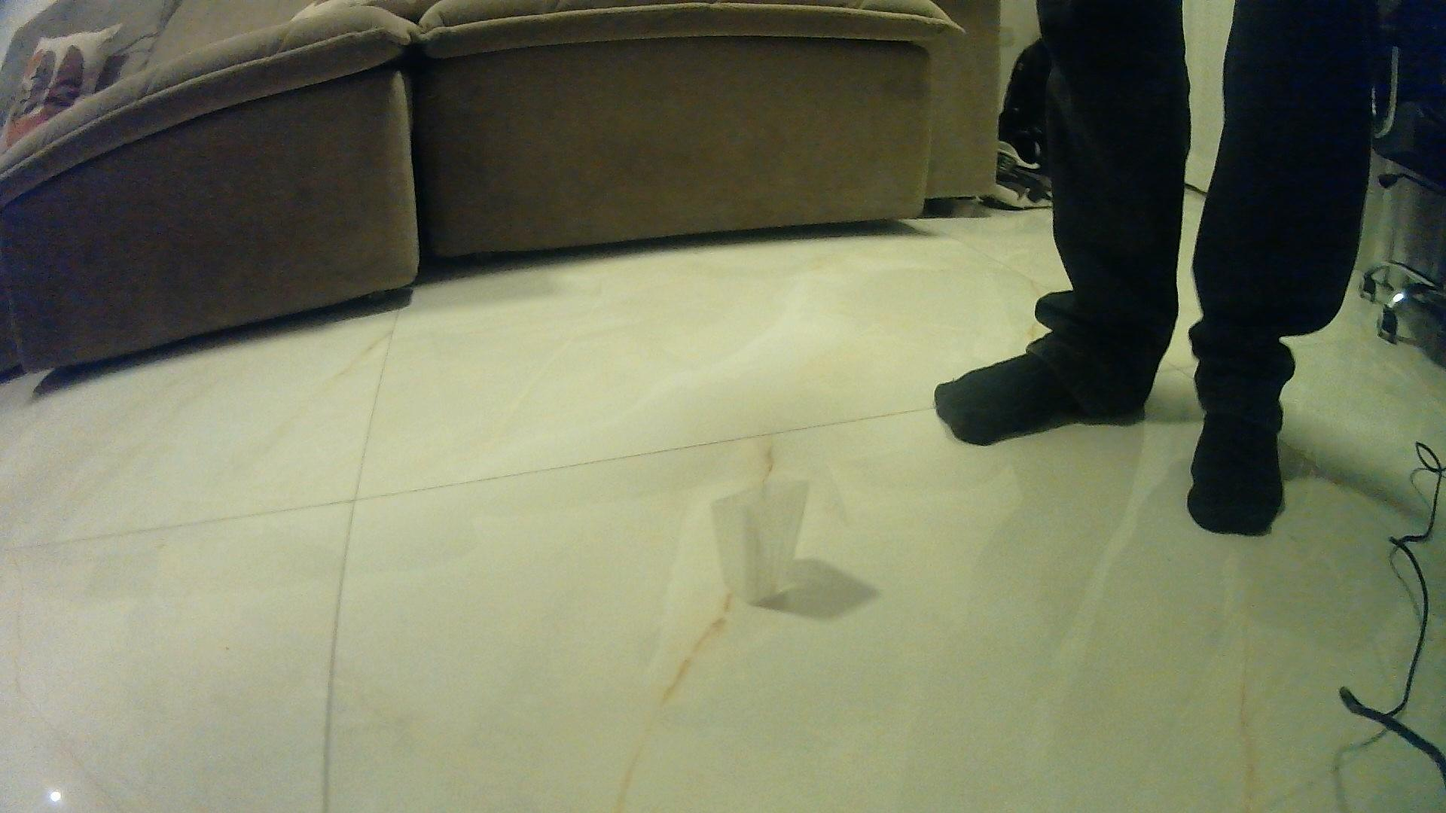vaso_redondo: (697, 471, 816, 605)
